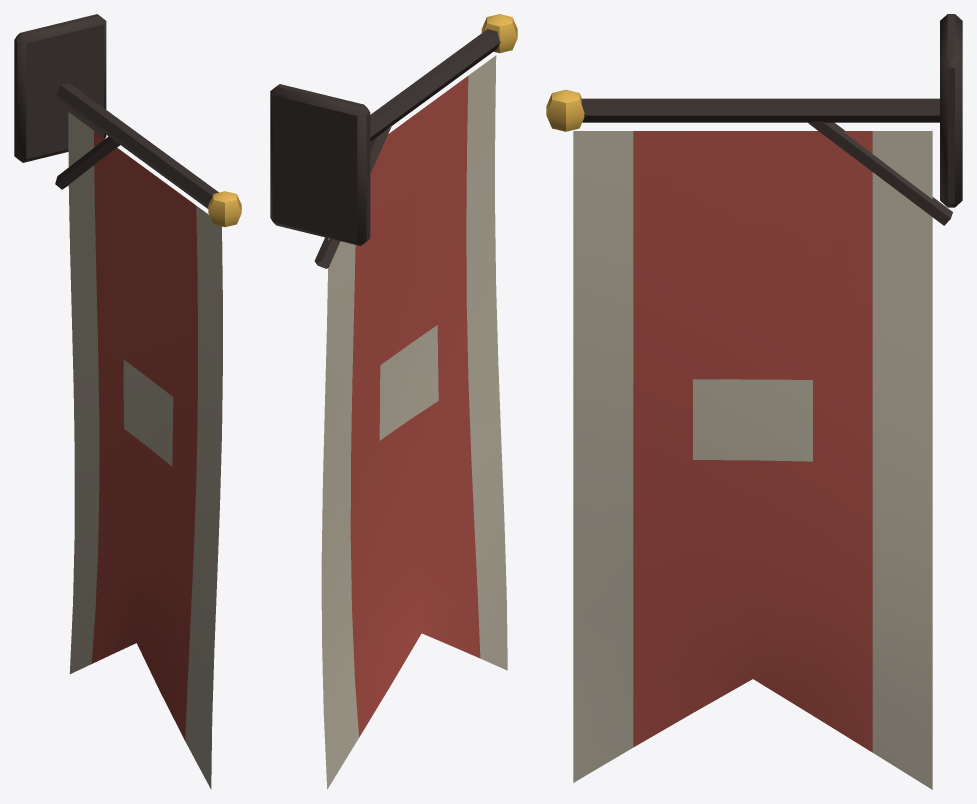
File: wall-banner.glb
3 views of the same model, side by side, from view 1: azimuth 30°, elevation 25°; view 2: azimuth 150°, elevation 25°; view 3: azimuth 270°, elevation 25° (orthographic). The views are drawn at different scales.
Parts seen in each view (by area): view 1: wall-banner; view 2: wall-banner; view 3: wall-banner.
Boxes of the visible parts, x1,y1,x2,y2 form: wall-banner: (14,14,241,789); wall-banner: (270,14,517,789); wall-banner: (546,14,962,789).
Size of the model in its own units: 0.16 by 1.11 by 0.556.
